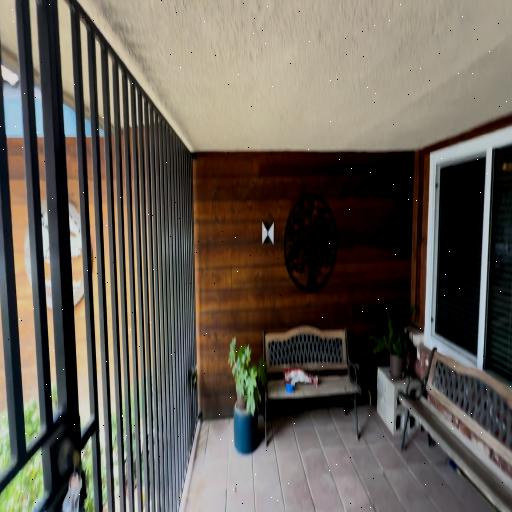target: (262, 222, 273, 245)
